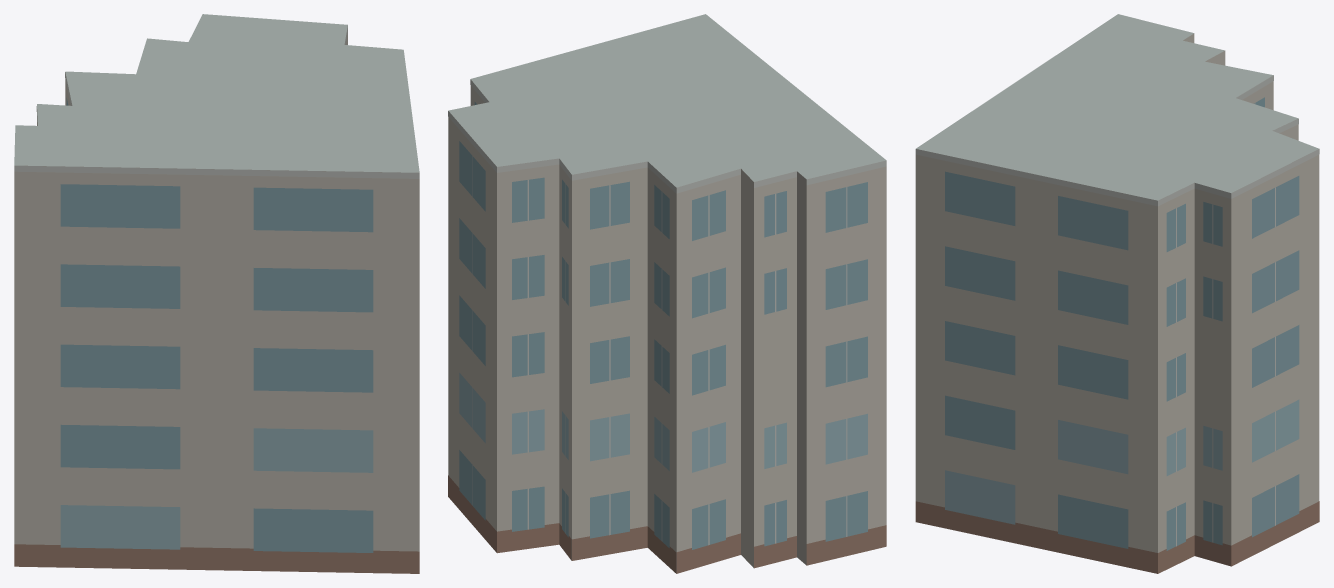
Rendered from survey-upis-32491043.glb.
3 views of the same model, side by side, from view 1: azimuth 30°, elevation 25°; view 2: azimuth 150°, elevation 25°; view 3: azimuth 270°, elevation 25° (orthographic). The views are drawn at different scales.
Parts seen in each view (by area): view 1: survey-upis-32491043.tmp; view 2: survey-upis-32491043.tmp; view 3: survey-upis-32491043.tmp.
Part boxes in pixels (x1,y1,x2,y2): survey-upis-32491043.tmp: (14, 14, 419, 573); survey-upis-32491043.tmp: (448, 14, 886, 573); survey-upis-32491043.tmp: (915, 14, 1319, 573).
Size of the model in its own units: 16.9 by 15.75 by 15.45.
